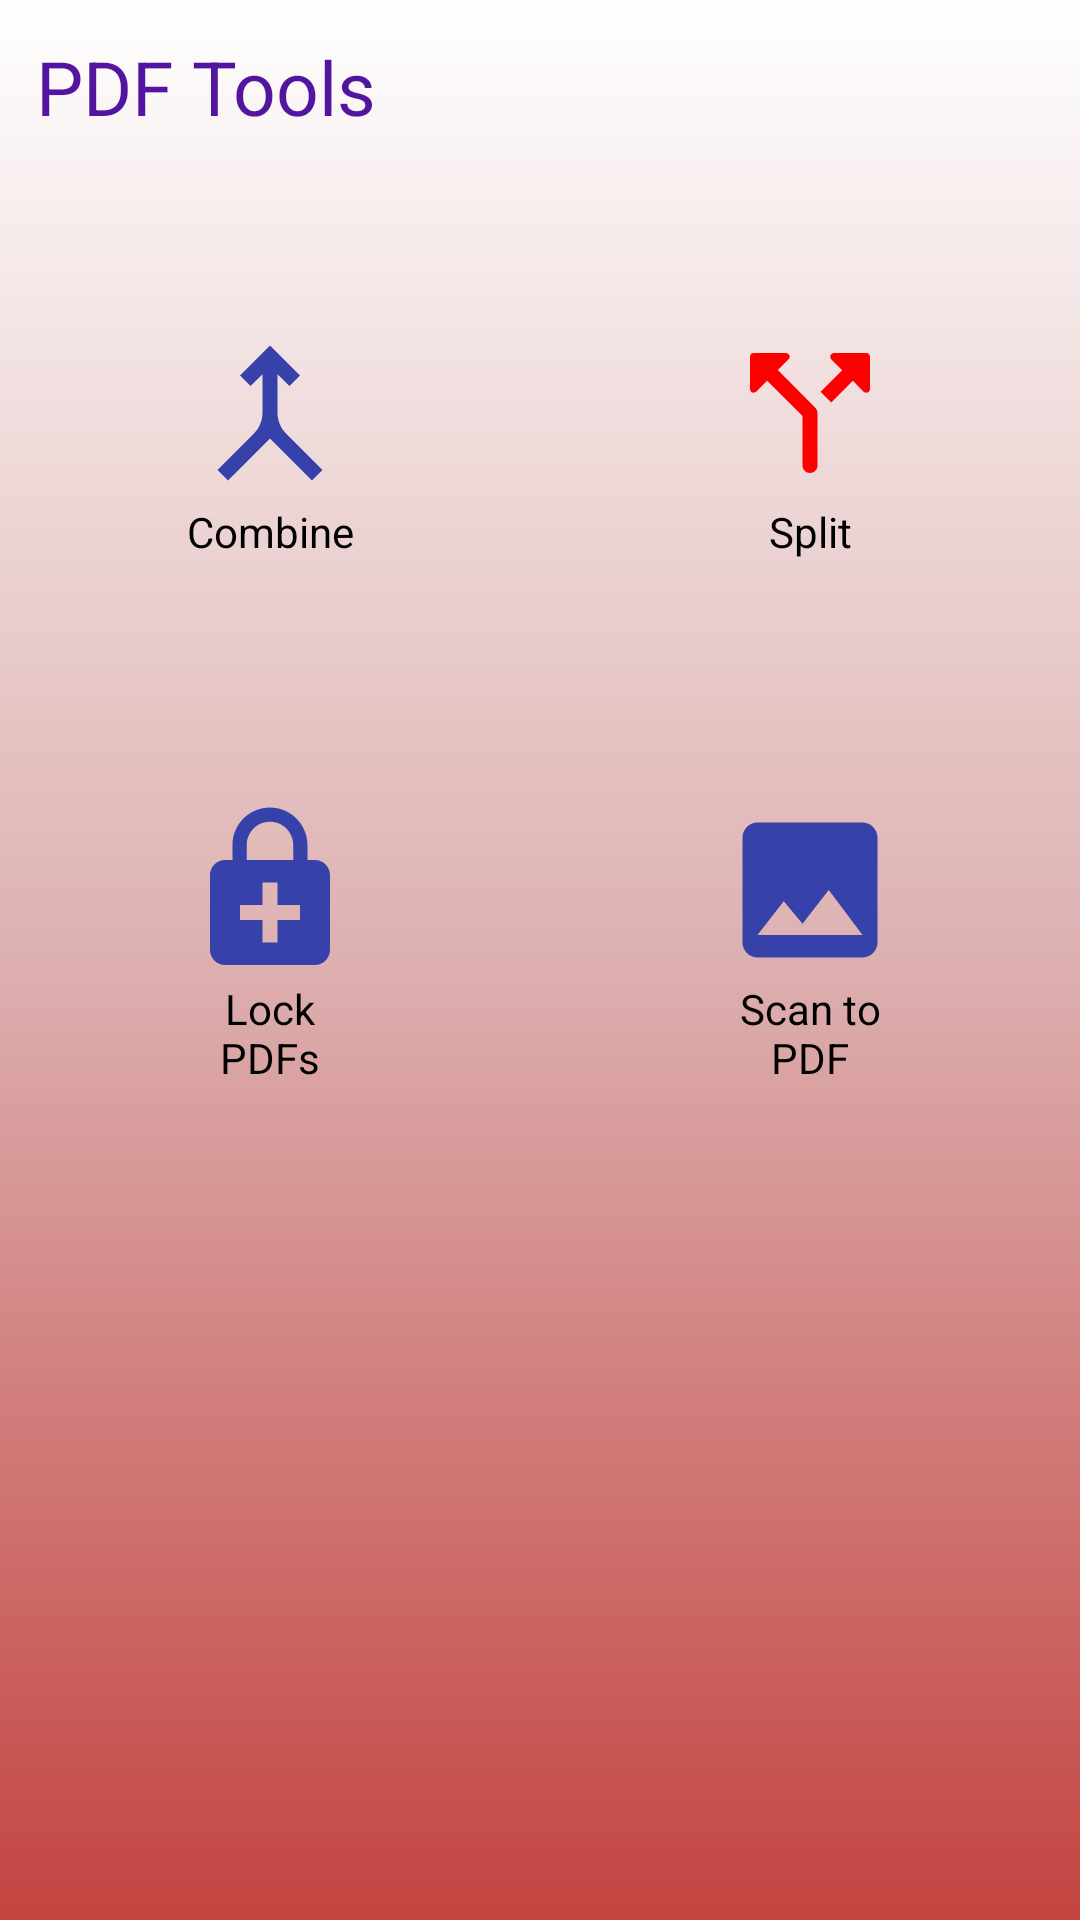

Icons on this 1080 × 1920 Android screen, each with the point to tap as [x,y]:
enhanced encryption: [270,886]
